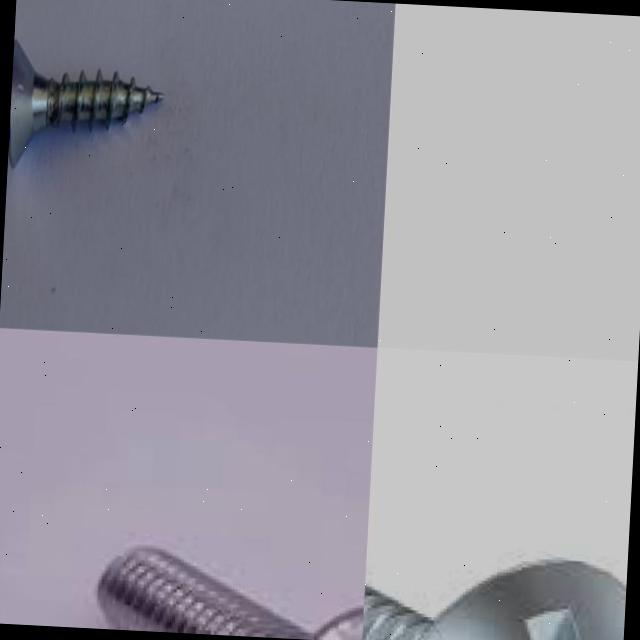Screw: (94, 546, 364, 640), (8, 38, 163, 167), (362, 565, 626, 640)
